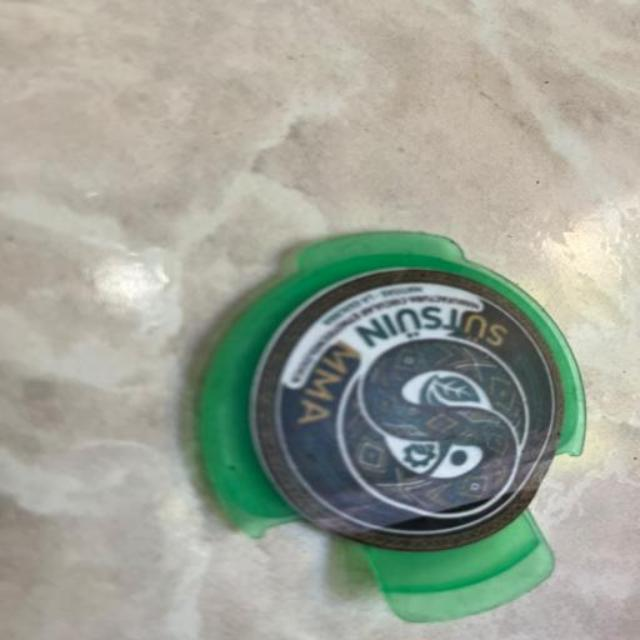HDPE: (185, 238, 640, 640)
